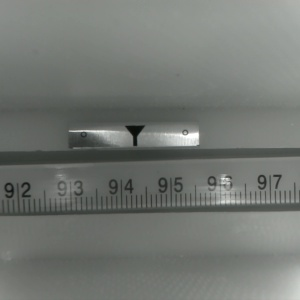2: (21, 182, 31, 198)
3: (72, 181, 82, 196), (222, 175, 232, 190)
4: (124, 178, 134, 194)
5: (173, 177, 183, 192)
7: (272, 175, 282, 190)
9: (206, 176, 217, 191), (3, 183, 14, 198), (157, 177, 167, 193), (257, 175, 267, 190), (56, 181, 66, 196)
finger: (123, 126, 145, 147)
